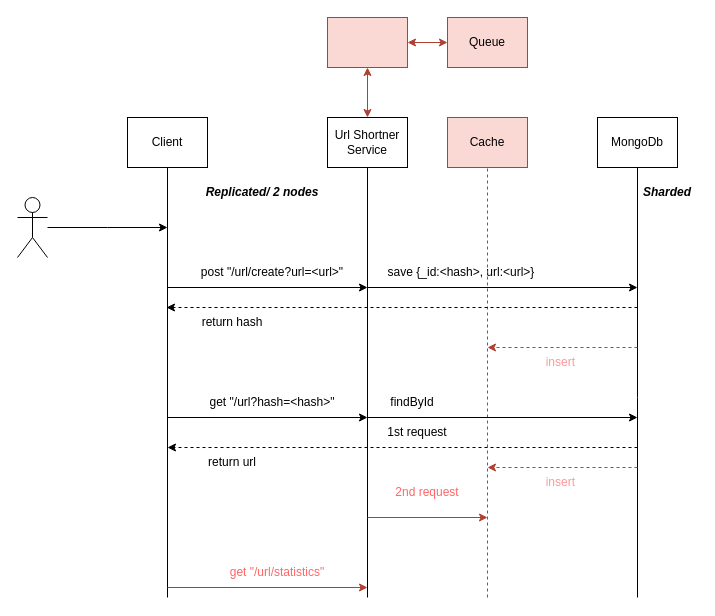
Image size: 715x616. Some labels were removed from this diagram. The box of each missing label's shape, as (x1, y1, x2, y2) in pixels:
Code Generator Service: (326, 16, 408, 68)
User: (16, 196, 48, 258)
